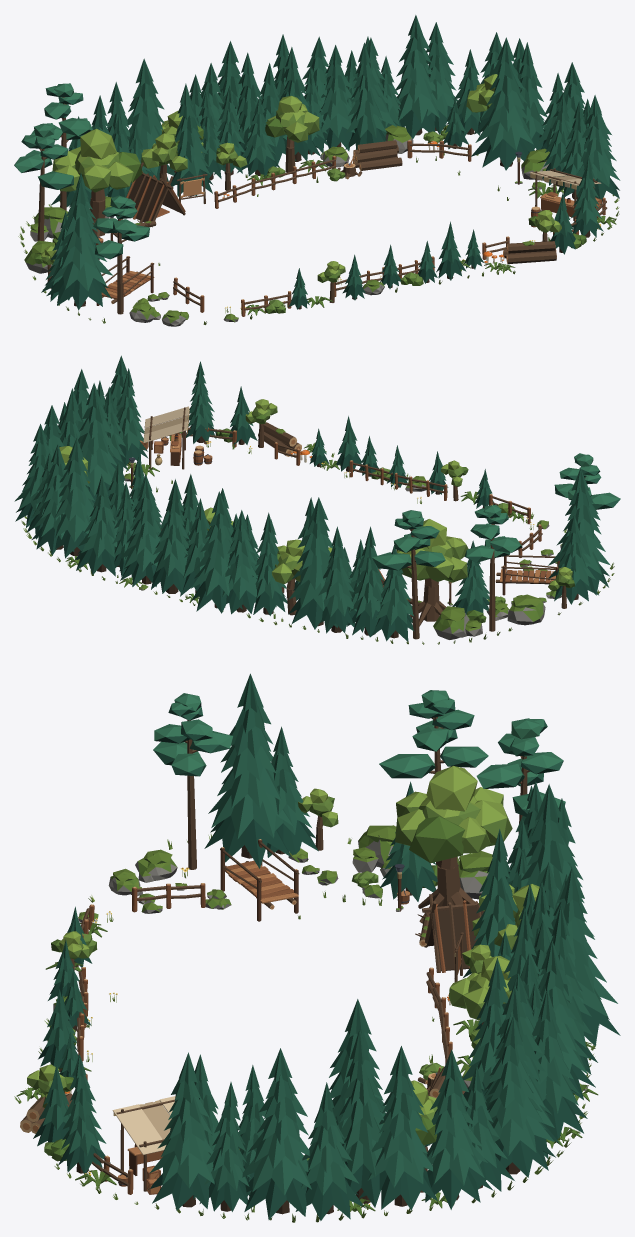
Rendered from Arena_Forest_Scatter.fbx.
3 renders of one model, top to bottom at view 1: azimuth 30°, elevation 25°; view 2: azimuth 150°, elevation 25°; view 3: azimuth 270°, elevation 25°, orthographic. The views are drawn at different scales.
Visible parts, largest first — view 1: Arena_Forest_Scatter.001; view 2: Arena_Forest_Scatter.001; view 3: Arena_Forest_Scatter.001.
Boxes of the visible parts, <box> form: Arena_Forest_Scatter.001: <box>14,15,620,326</box>; Arena_Forest_Scatter.001: <box>14,355,620,644</box>; Arena_Forest_Scatter.001: <box>14,673,620,1222</box>.
Size of the model in its own units: 33.9 by 8.2 by 22.1.
